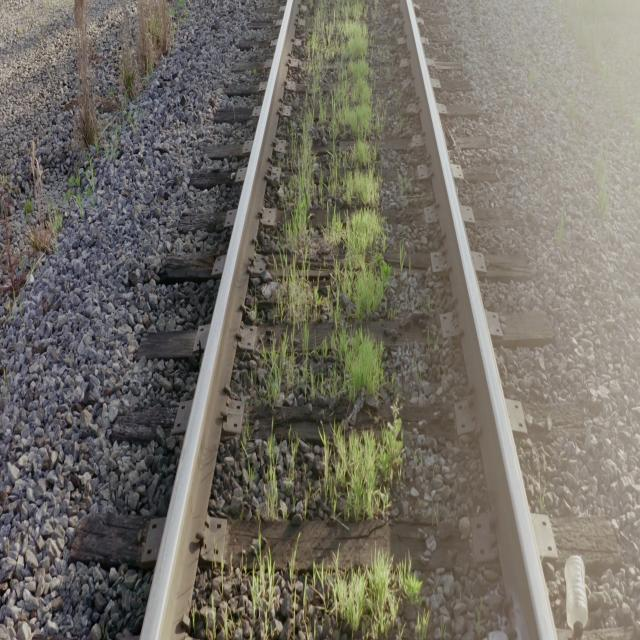Plant: (279, 0, 390, 407), (314, 404, 402, 522), (312, 551, 421, 638), (246, 549, 306, 638), (265, 340, 300, 407), (346, 567, 366, 633), (265, 436, 280, 518)
